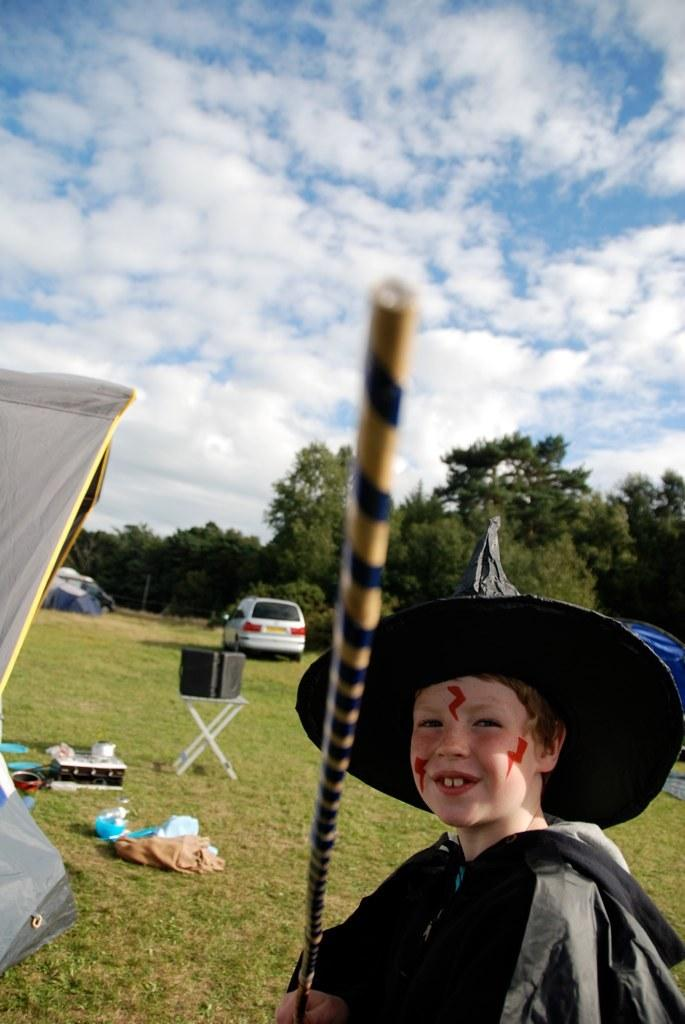Hat: (293, 512, 683, 830)
